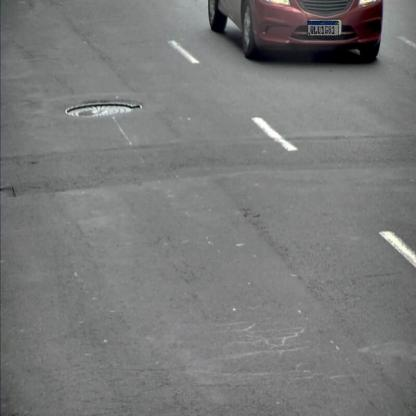PlacaM: (308, 21, 338, 36)
